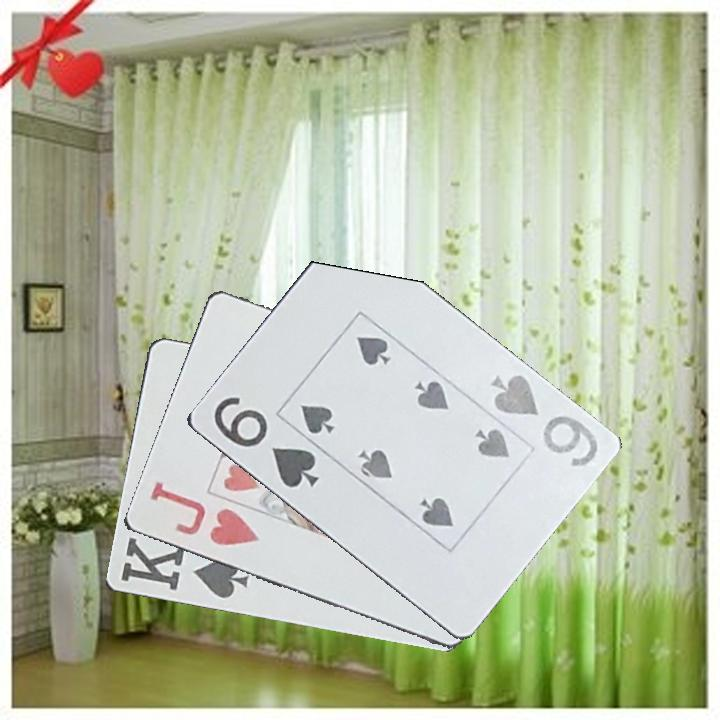6s: (485, 370, 601, 471), (209, 393, 322, 493)
Jh: (145, 478, 262, 549)
Ks: (116, 534, 252, 602)
